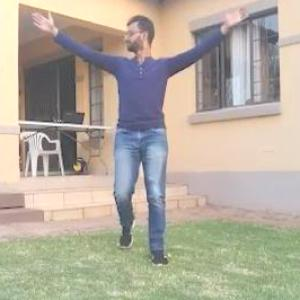takeoff: (30, 11, 238, 238)
